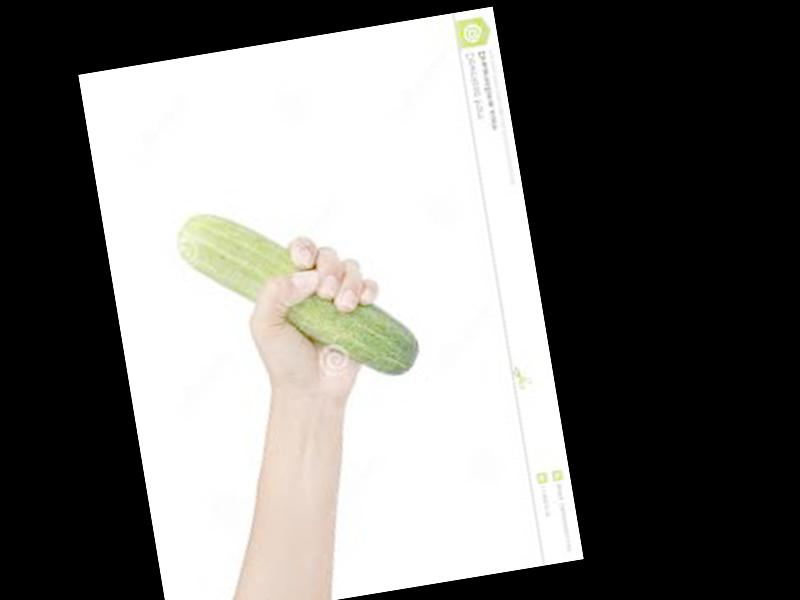Cucumber: (175, 183, 423, 411)
